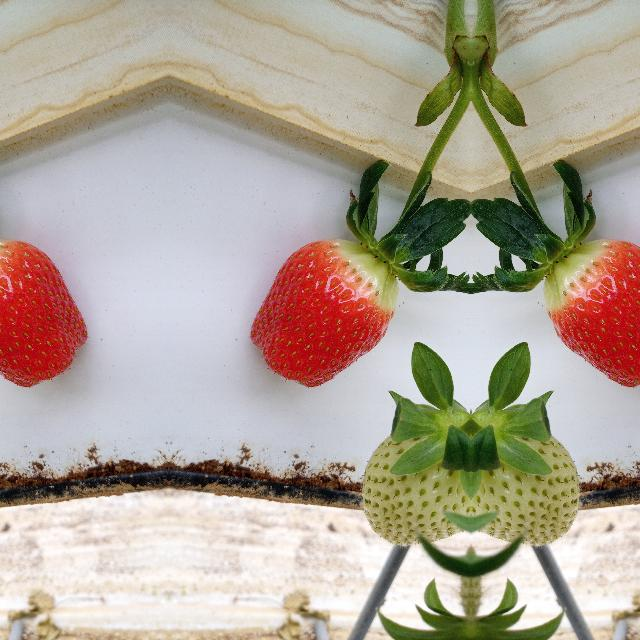Health_100: (249, 237, 397, 387), (544, 237, 640, 387), (0, 237, 87, 387)
Health_25: (358, 423, 470, 545), (471, 423, 583, 545)
